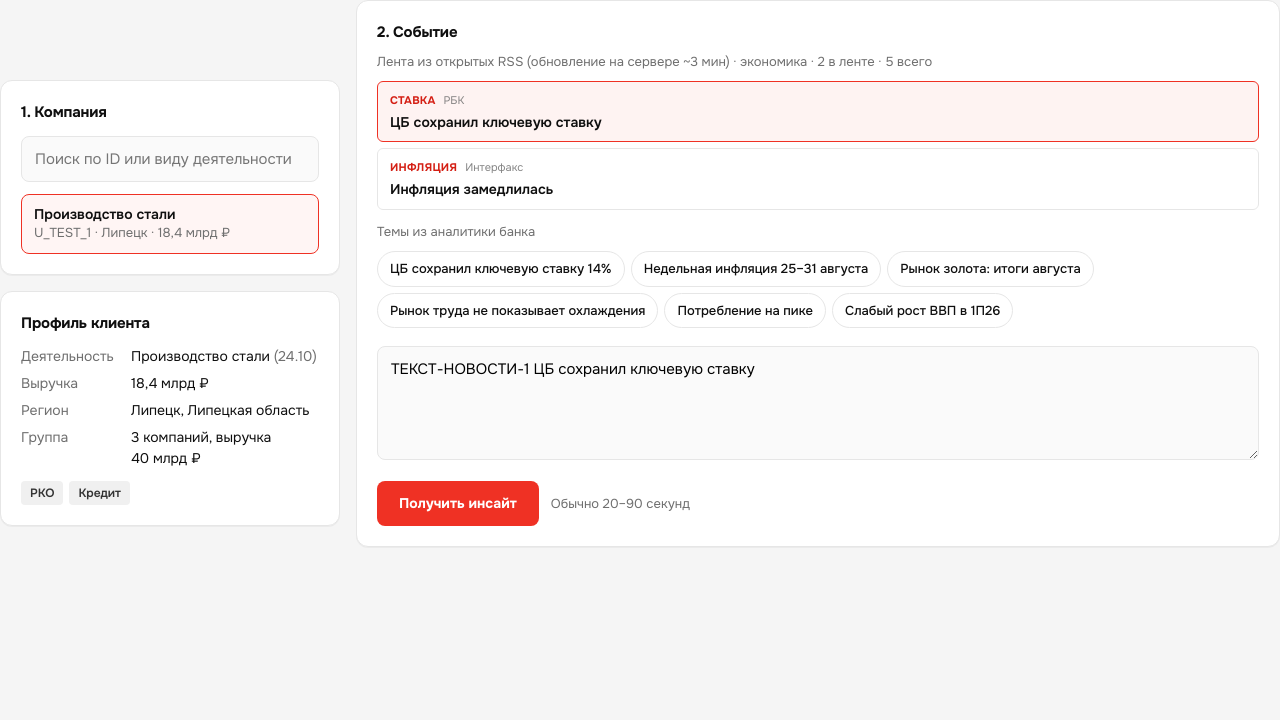
Test: Workspace › treats status != ok as a failure and shows the backend's error
Expected: the text "Производство стали" is shown, [34,205,176,223]
Click the button "Получить инсайт" at (458, 503), box [377,481,539,526]
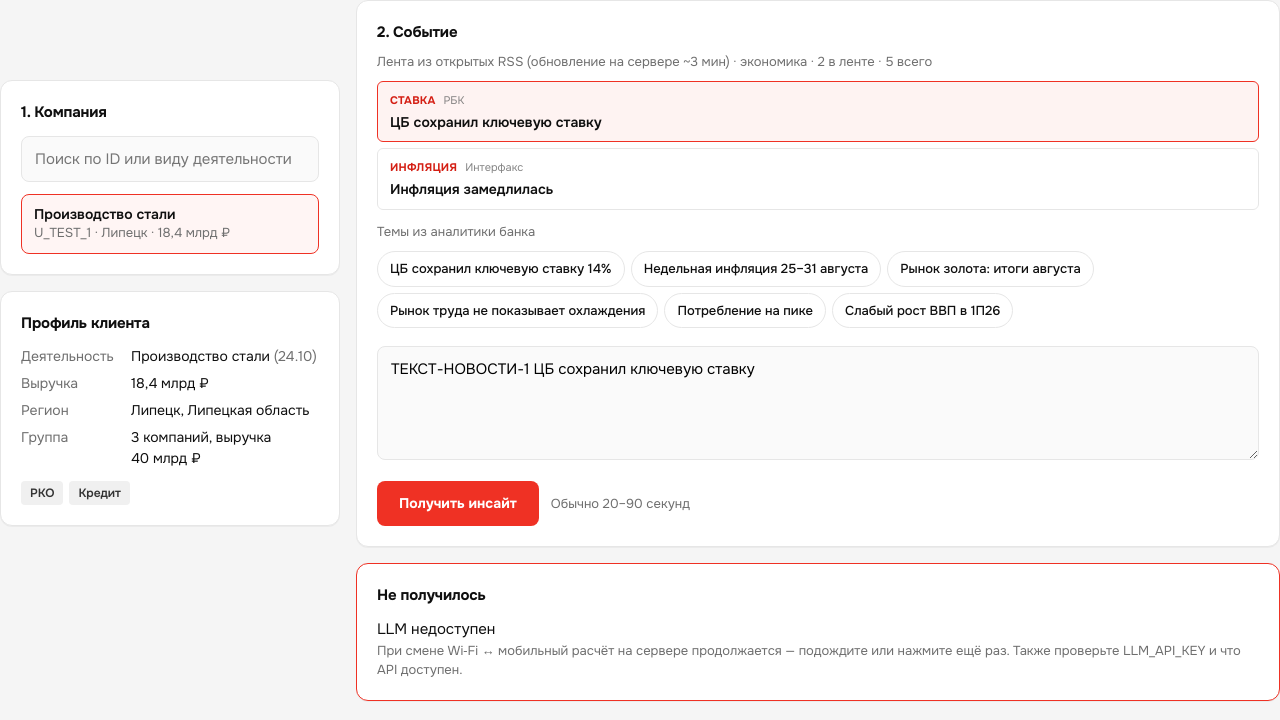
Expected: the text "LLM недоступен" is shown, [377,619,495,639]
